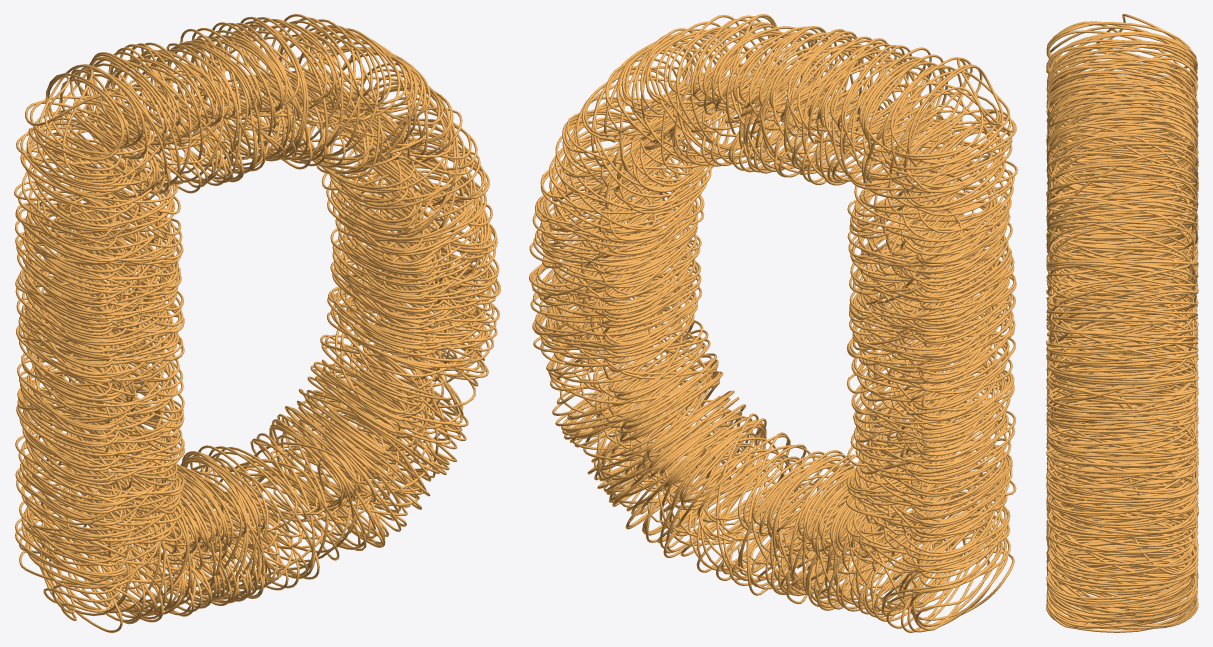
3 views of the same model, side by side, from view 1: azimuth 30°, elevation 25°; view 2: azimuth 150°, elevation 25°; view 3: azimuth 270°, elevation 25° (orthographic). The views are drawn at different scales.
Parts seen in each view (by area): view 1: letter_d; view 2: letter_d; view 3: letter_d.
Part boxes in pixels (left/top/right/bottom): letter_d: left=14, top=14, right=500, bottom=632; letter_d: left=529, top=14, right=1017, bottom=632; letter_d: left=1046, top=14, right=1198, bottom=632.
Bounding box in the file's own units: 0.504 × 0.5902 × 0.1604.
